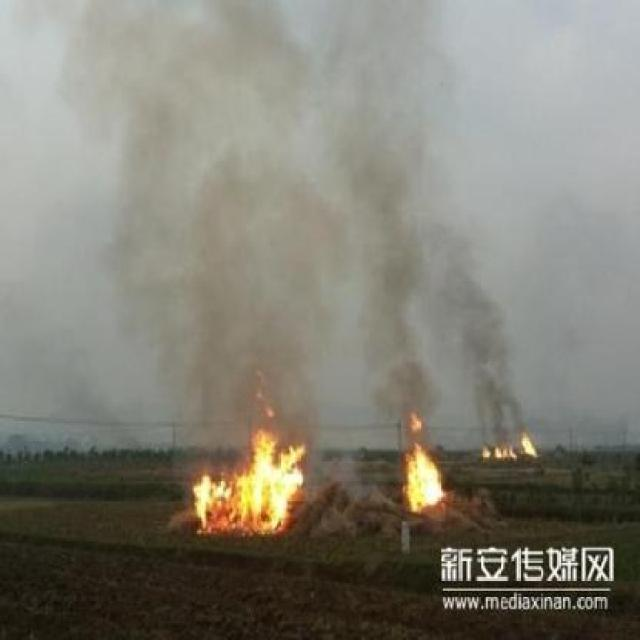Fire: (181, 399, 305, 551), (397, 404, 447, 516), (468, 427, 537, 469)
Smoke: (66, 9, 522, 408)
